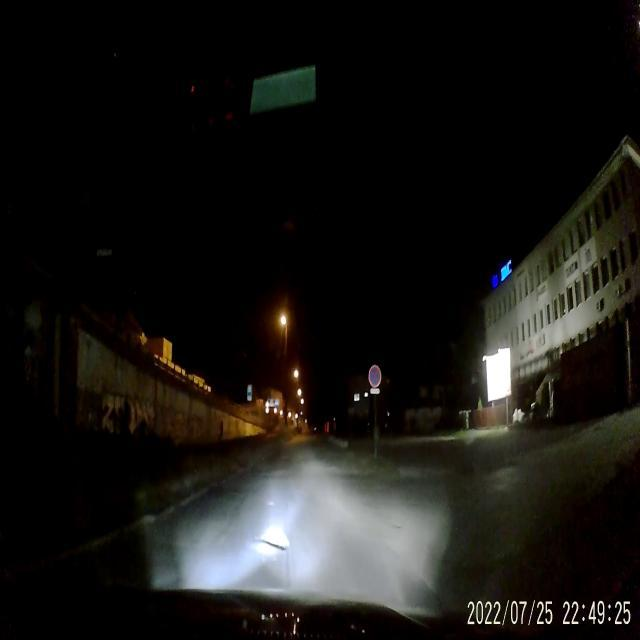Pothole: (258, 521, 292, 553)
